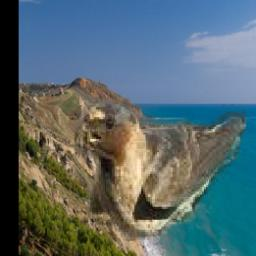Swallow: (76, 98, 247, 242)
